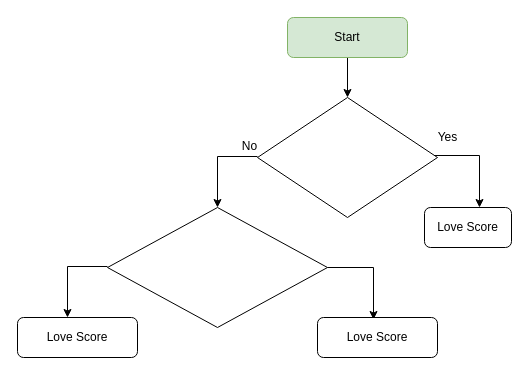
The diagram is 529 pixels wide and 375 high, and some of its shapes have lost their labels. The box of each missing label's shape, as (x1, y1, x2, y2) in pixels:
(score >= 40) and (score <= 50 ): (106, 206, 328, 328)
(score<10) or (score > 90): (256, 96, 438, 218)
